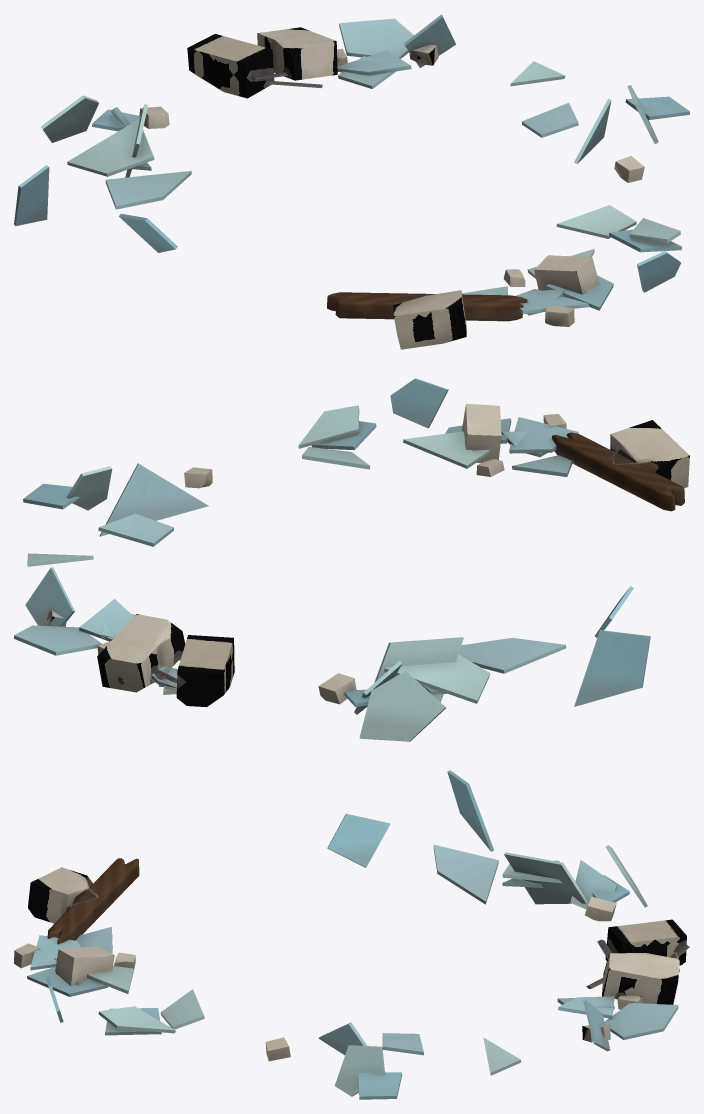
File: rough-glass-3.hq.glb
3 renders of one model, top to bottom at view 1: azimuth 30°, elevation 25°; view 2: azimuth 150°, elevation 25°; view 3: azimuth 270°, elevation 25°, orthographic. The views are drawn at different scales.
Parts seen in each view (by area): view 1: rough-glass-3; view 2: rough-glass-3; view 3: rough-glass-3.
Part boxes in pixels (box(x1,y1,x2,y2)): rough-glass-3: box(14, 14, 689, 349); rough-glass-3: box(14, 378, 689, 741); rough-glass-3: box(14, 770, 689, 1099).
Size of the model in its own units: 1.54 by 0.1662 by 1.53.
1 material, 1 textured.
